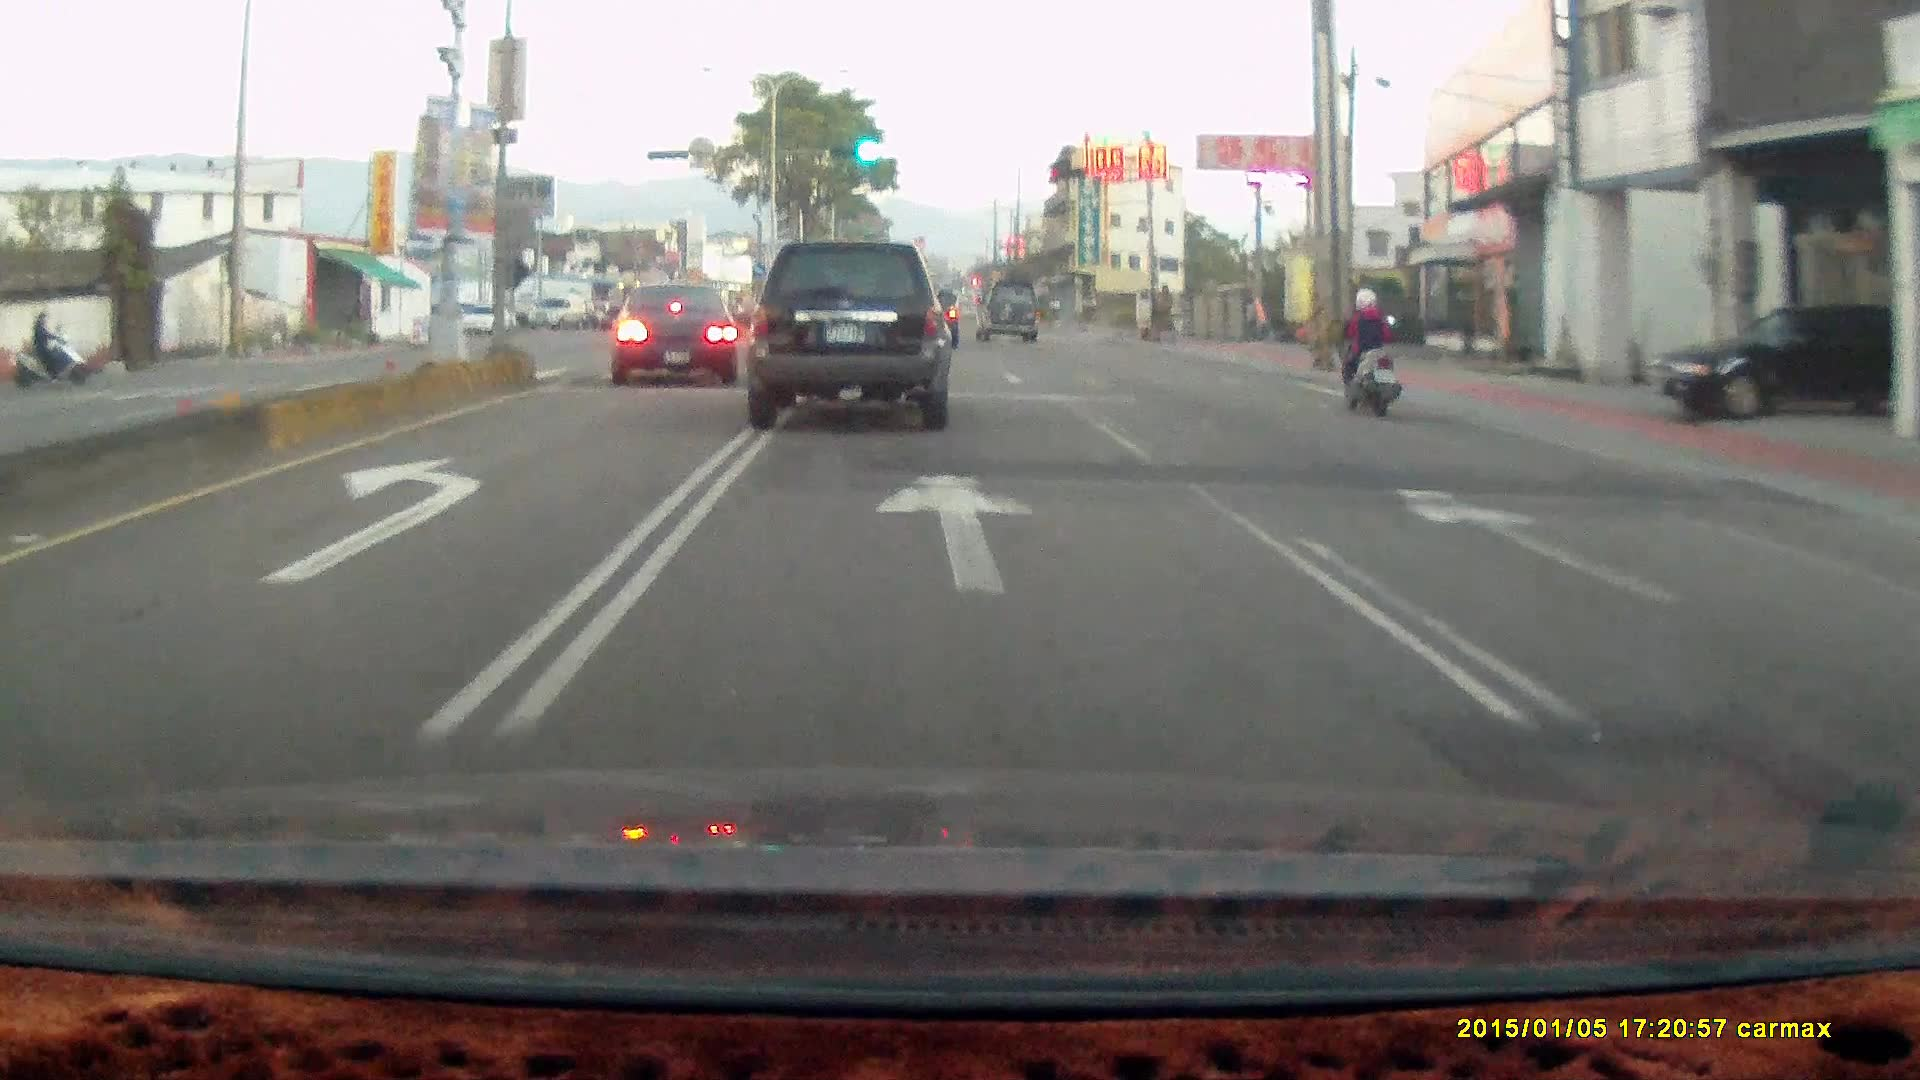rider: (1322, 278, 1414, 425), (1328, 287, 1398, 416), (3, 302, 96, 385)
vehicle: (745, 234, 958, 428), (745, 240, 954, 430), (1647, 299, 1912, 421), (1664, 298, 1875, 424), (607, 280, 749, 386), (607, 280, 742, 386), (973, 278, 1041, 344), (971, 279, 1038, 341), (450, 300, 515, 336), (525, 296, 588, 329), (599, 306, 642, 333)
